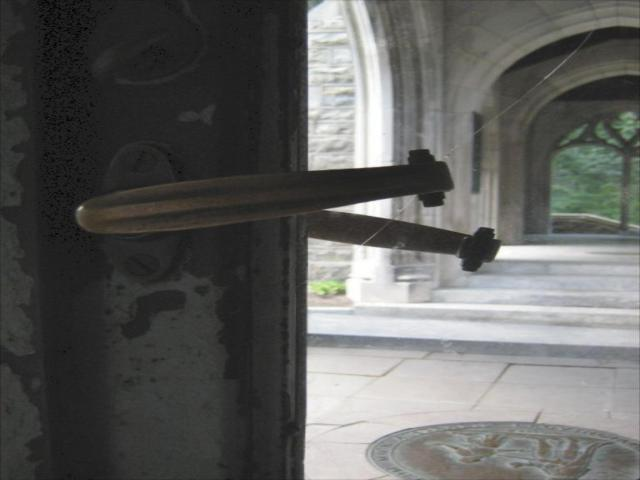Door-handle: (71, 136, 452, 288), (305, 209, 503, 272)
